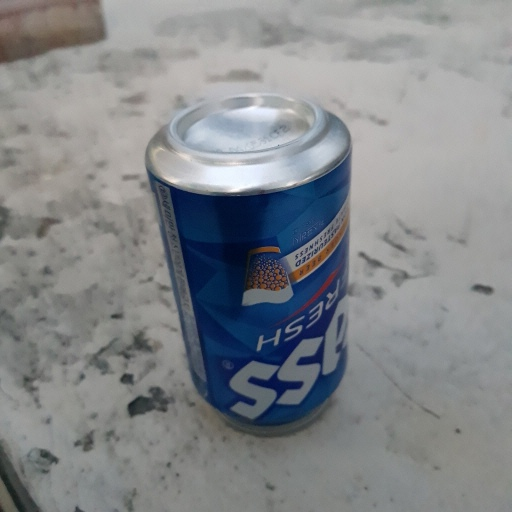Metal_0: (141, 88, 356, 437)
